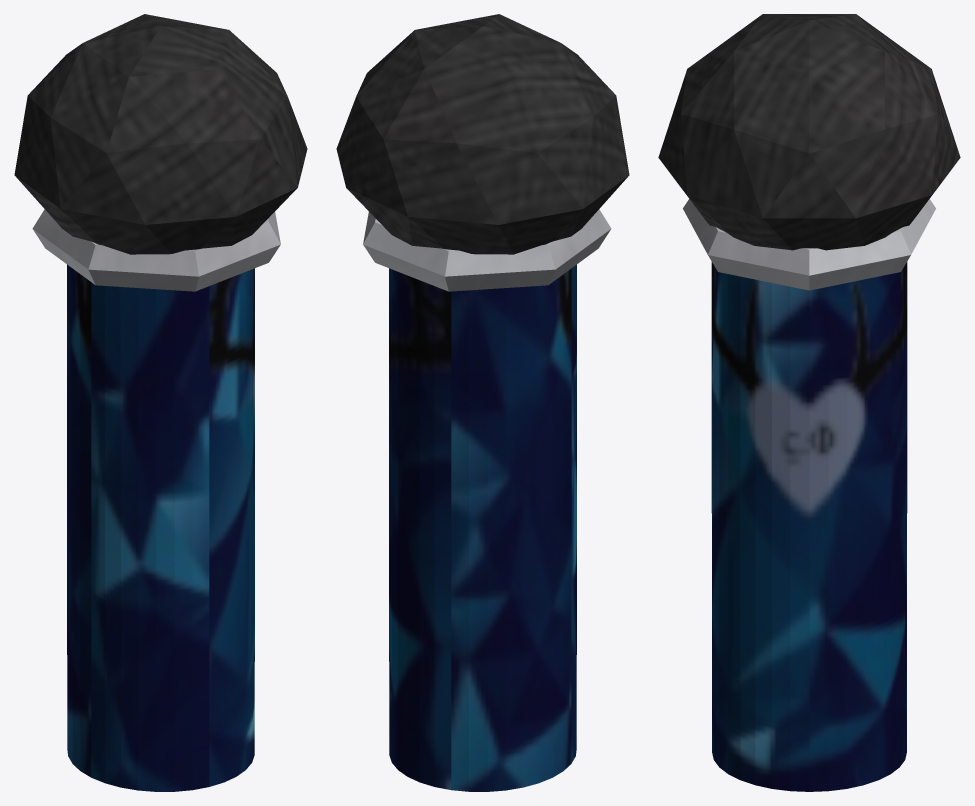
File: v.fmic.dae
3 renders of one model, left to right at view 1: azimuth 30°, elevation 25°; view 2: azimuth 150°, elevation 25°; view 3: azimuth 270°, elevation 25°, orthographic.
Visible parts, largest first — view 1: Circle; view 2: Circle; view 3: Circle.
Part boxes in pixels (x1,y1,x2,y2): Circle: (14, 14, 307, 791); Circle: (336, 14, 629, 791); Circle: (658, 14, 960, 791).
Size of the model in its own units: 0.0692 by 0.0728 by 0.1944.
Materials: 1 (1 with a texture image).
